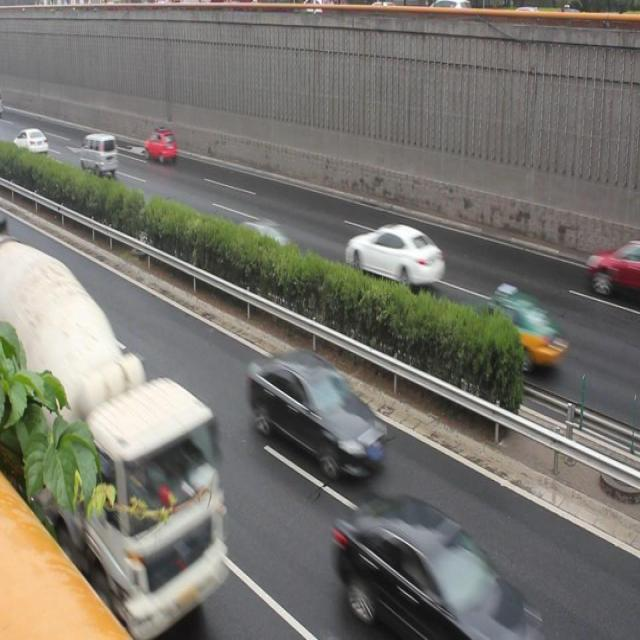bus: (1, 246, 235, 619)
car: (337, 495, 543, 640), (244, 346, 382, 488), (462, 285, 571, 372), (345, 220, 445, 292), (232, 209, 300, 270), (146, 124, 180, 162), (15, 127, 50, 163)
truck: (80, 134, 120, 175)
